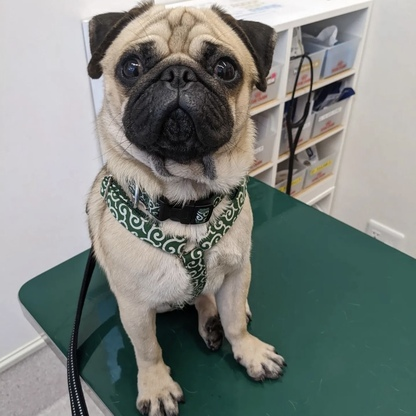Pug: (78, 1, 295, 416)
